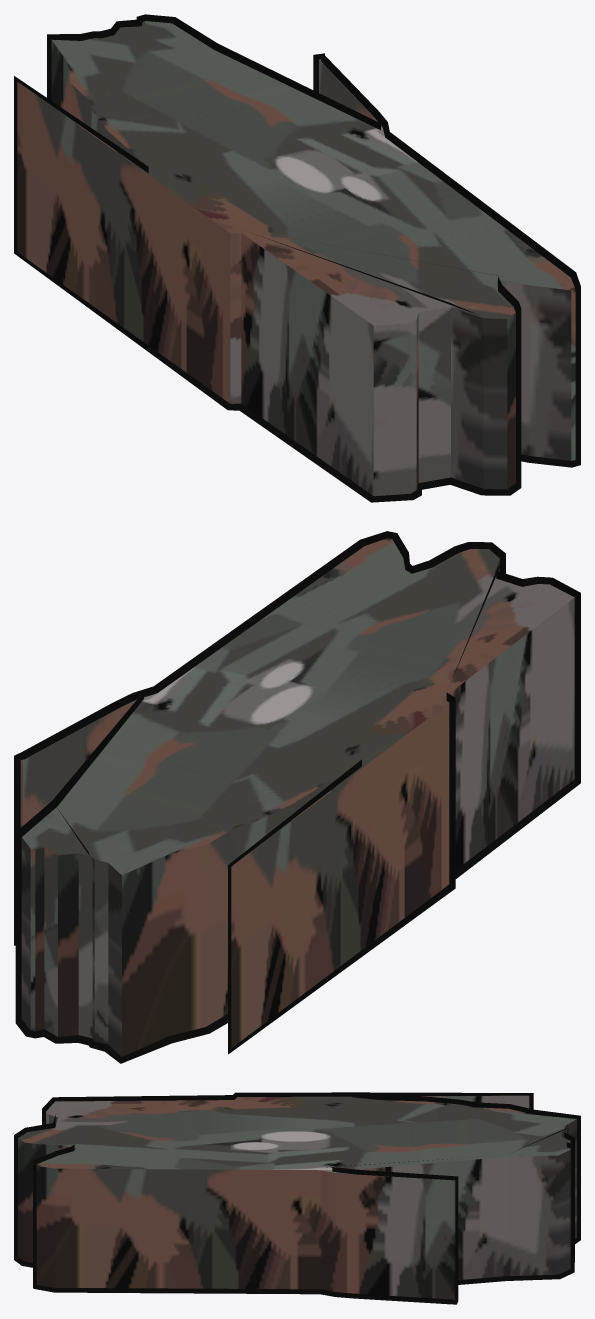
The model's file is Building_AncientWarwalkerLeg_Things_Building_Ruins_AncientWarwalkerLeg.glb.
The picture shows the model from 3 angles, top to bottom: view 1: azimuth 30°, elevation 25°; view 2: azimuth 150°, elevation 25°; view 3: azimuth 270°, elevation 25°; orthographic projection. The views are drawn at different scales.
Parts seen in each view (by area): view 1: Body, Outline; view 2: Body, Outline; view 3: Body, Outline.
Part boxes in pixels (left/top/right/bottom): Body: left=17, top=21, right=575, bottom=496; Outline: left=14, top=14, right=580, bottom=502; Body: left=20, top=538, right=574, bottom=1056; Outline: left=14, top=531, right=580, bottom=1063; Body: left=18, top=1095, right=576, bottom=1299; Outline: left=14, top=1092, right=580, bottom=1304.
Bounding box in the file's own units: 0.9325 × 0.6408 × 2.56.
2 materials, 1 textured.
